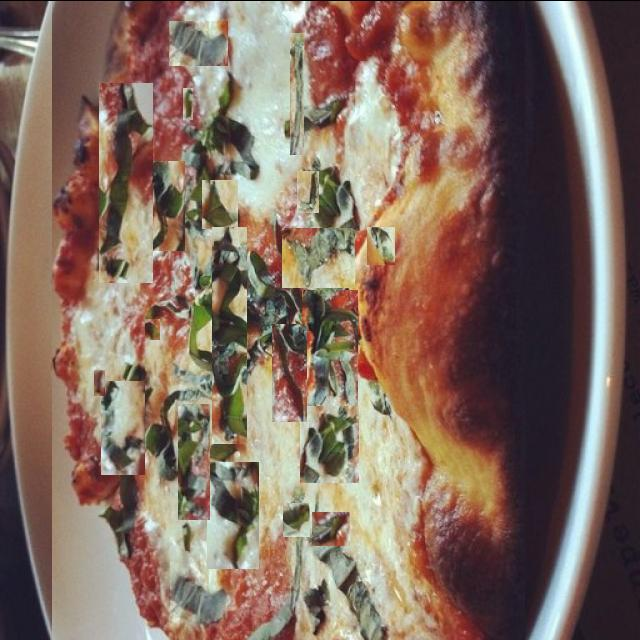basil: (308, 0, 388, 150), (99, 82, 153, 282), (212, 226, 247, 443), (302, 289, 358, 405), (244, 278, 298, 392), (207, 461, 259, 568), (300, 405, 359, 482), (282, 227, 355, 287), (182, 266, 220, 378), (101, 379, 145, 474), (143, 160, 185, 250), (178, 403, 210, 519), (272, 323, 307, 421), (169, 20, 228, 65), (202, 179, 238, 228), (290, 32, 304, 154), (300, 4, 328, 64), (312, 511, 350, 545), (367, 226, 395, 264), (284, 502, 312, 536), (297, 170, 319, 212), (183, 87, 193, 119), (145, 318, 160, 339), (94, 369, 105, 395)
pizza: (52, 0, 525, 640)
